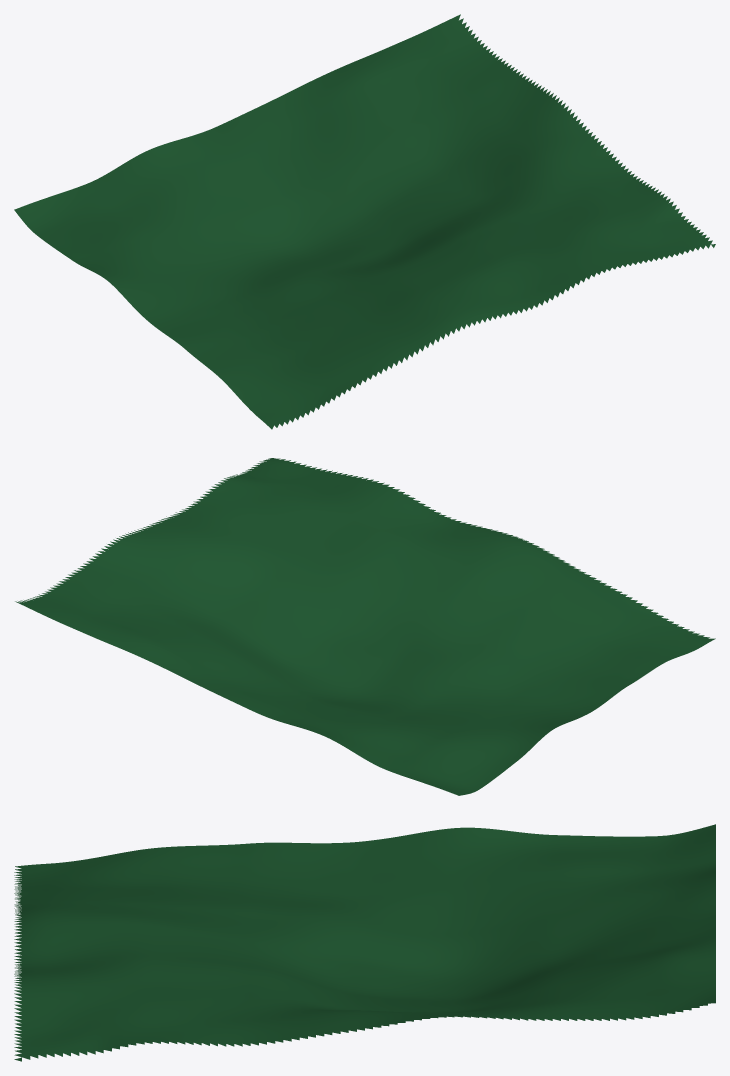
The model's file is payo_land_x2_y1.glb.
The picture shows the model from 3 angles, top to bottom: view 1: azimuth 30°, elevation 25°; view 2: azimuth 150°, elevation 25°; view 3: azimuth 270°, elevation 25°; orthographic projection. The views are drawn at different scales.
Visible parts, largest first — view 1: payo_land_x2_y1; view 2: payo_land_x2_y1; view 3: payo_land_x2_y1.
Boxes of the visible parts, x1,y1,x2,y2 form: payo_land_x2_y1: [14, 14, 715, 429]; payo_land_x2_y1: [15, 458, 715, 795]; payo_land_x2_y1: [14, 824, 715, 1061].
Bounding box in the file's own units: 258 × 64.91 × 258.
